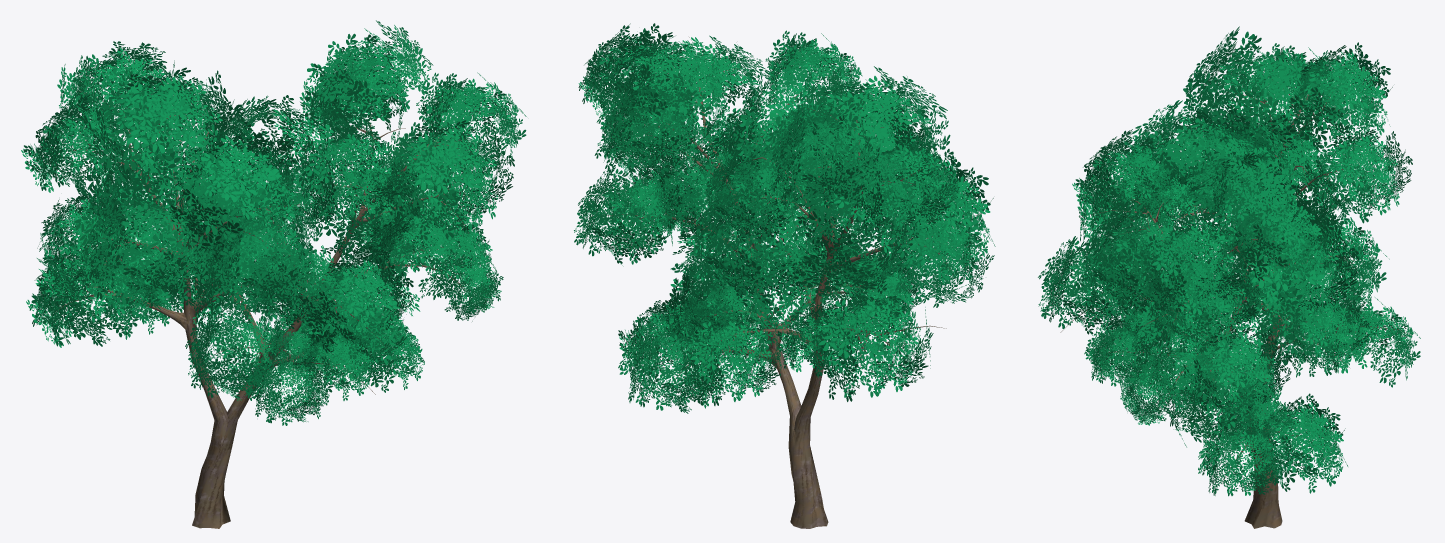
File: Tree_Oak2.fbx
The picture shows the model from 3 angles, left to right: view 1: azimuth 30°, elevation 25°; view 2: azimuth 150°, elevation 25°; view 3: azimuth 270°, elevation 25°; orthographic projection. The views are drawn at different scales.
Visible parts, largest first — view 1: Tree_Oak2; view 2: Tree_Oak2; view 3: Tree_Oak2.
Part boxes in pixels (x1,y1,x2,y2): Tree_Oak2: (21,20,526,528); Tree_Oak2: (574,23,995,528); Tree_Oak2: (1038,26,1420,528).
Size of the model in its own units: 704 by 705 by 549.
